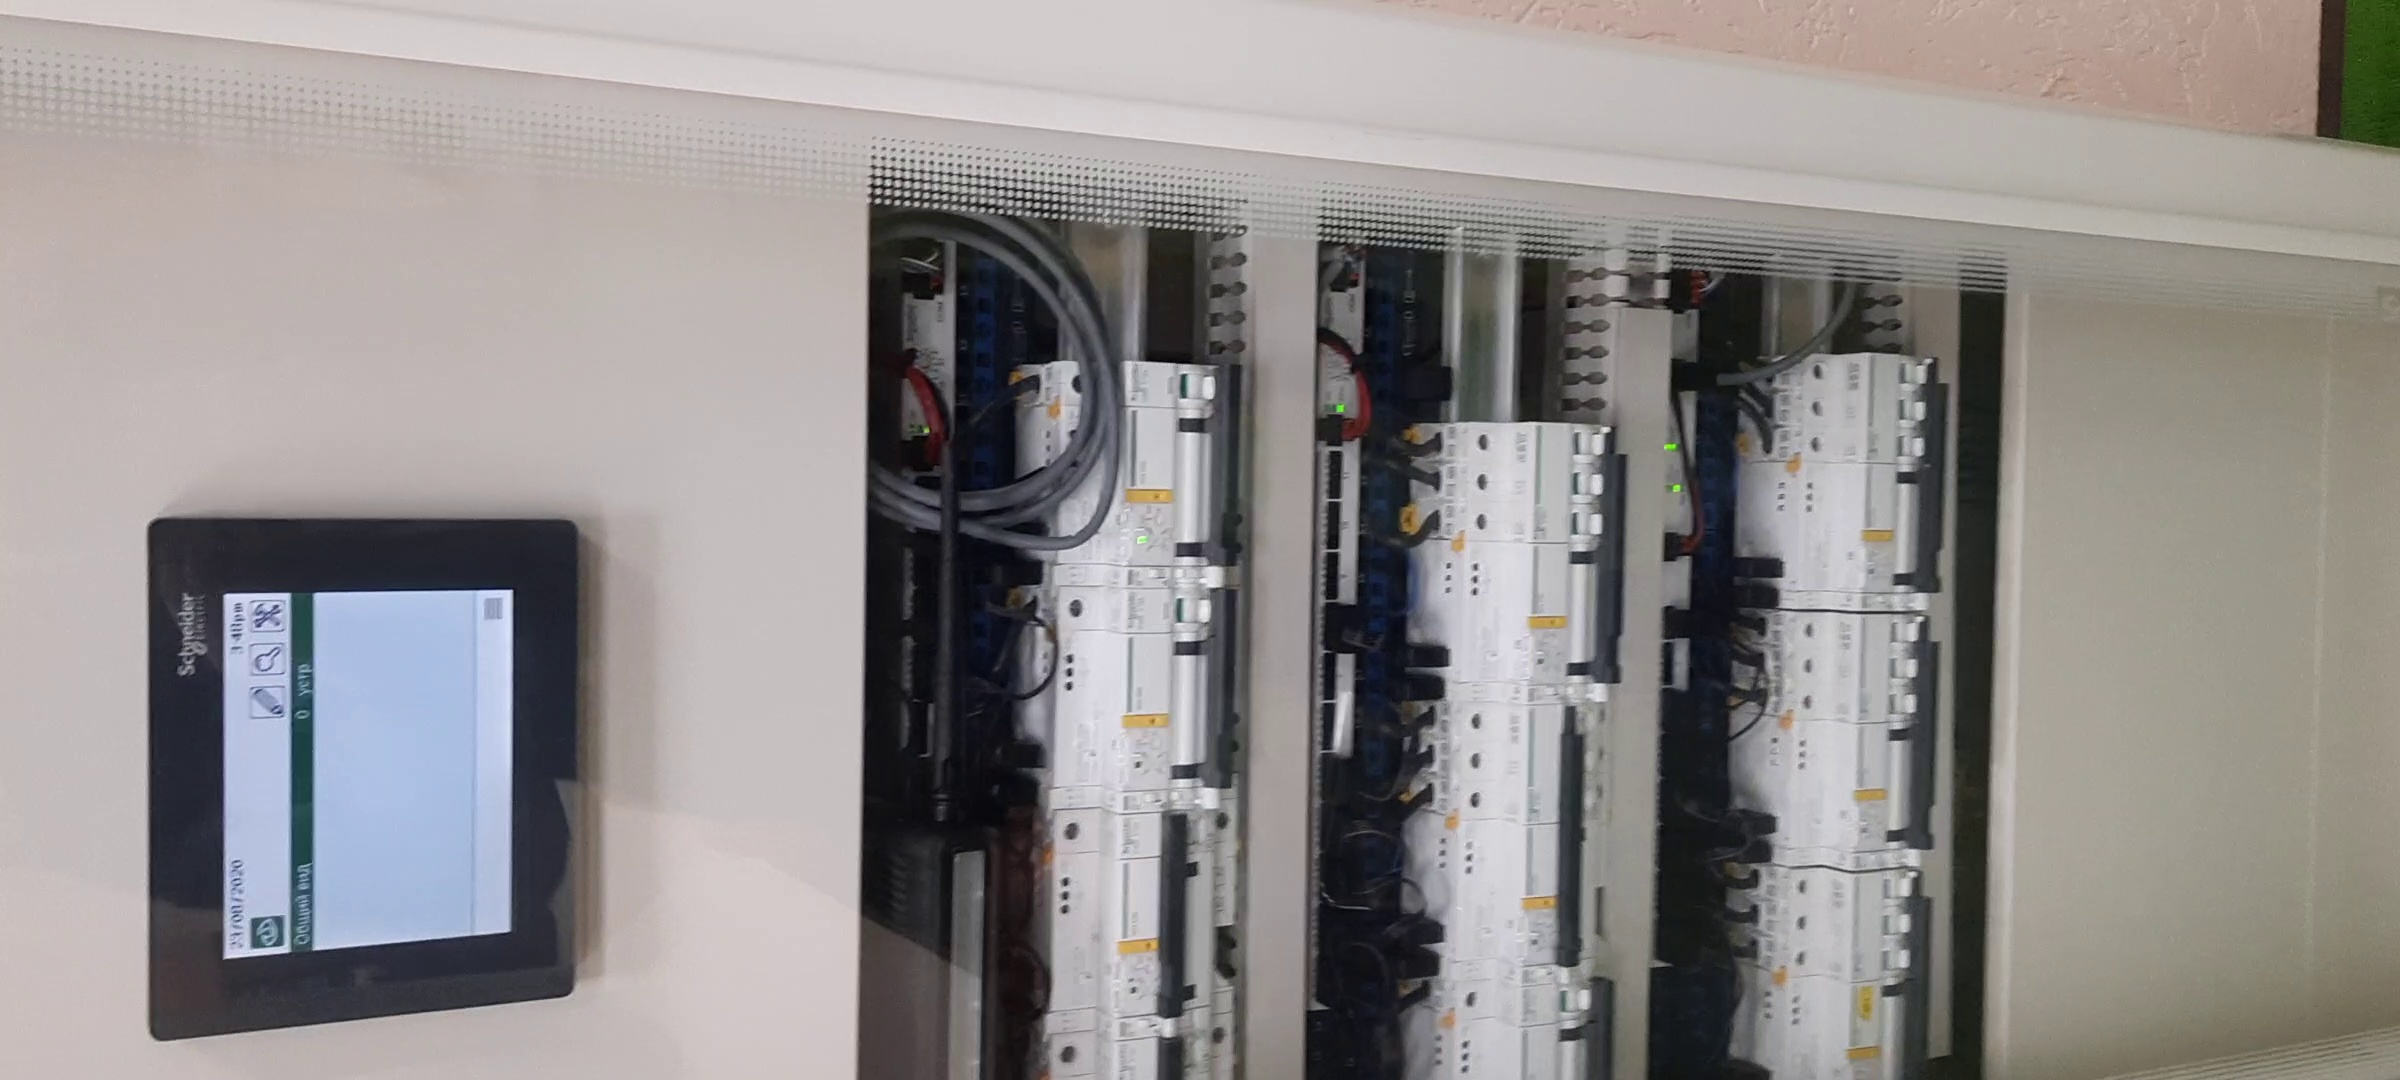smart_stand: (2, 132, 2400, 1077)
